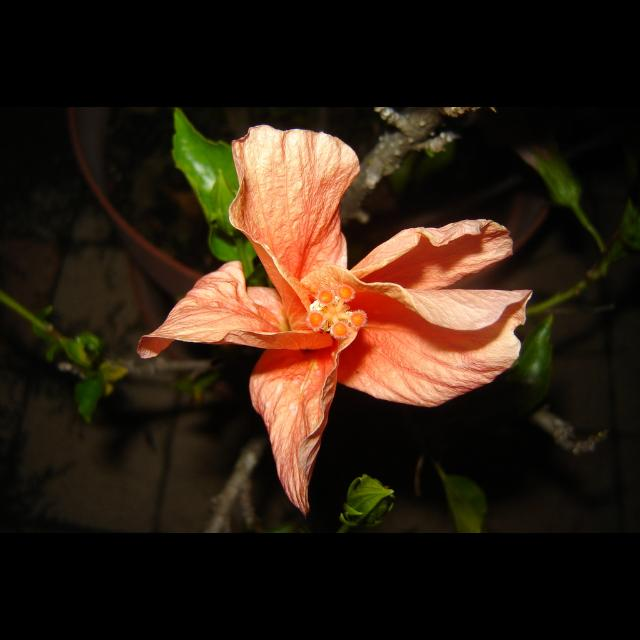Flower: (158, 148, 492, 480)
